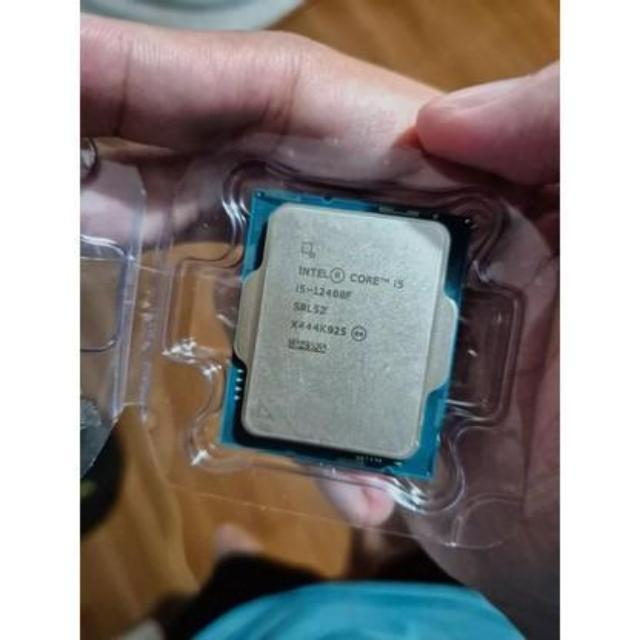CPU: (228, 182, 460, 484)
